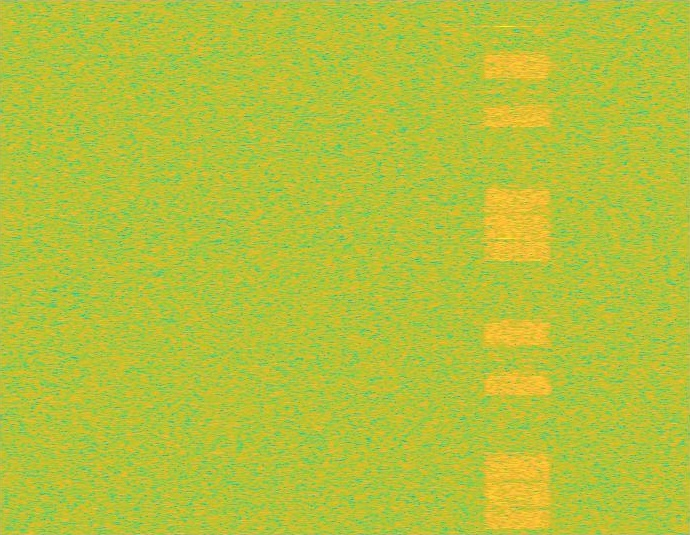LTE: (483, 0, 552, 534)
Radar: (499, 0, 513, 534)
